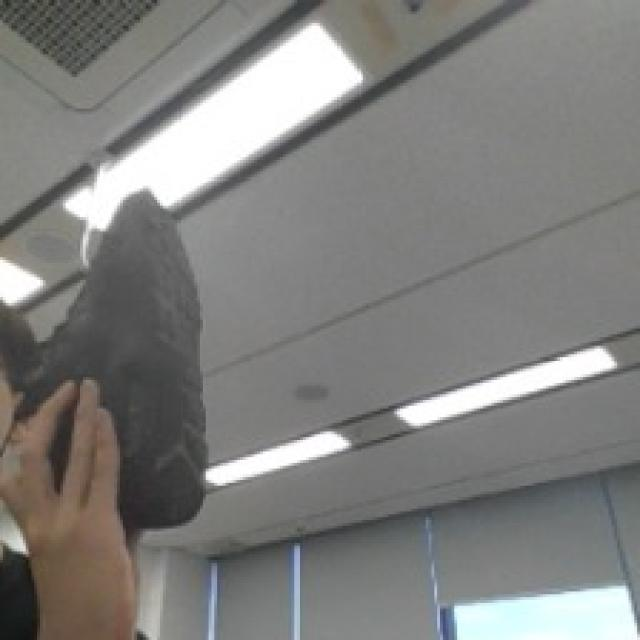shoe: (36, 182, 210, 525)
